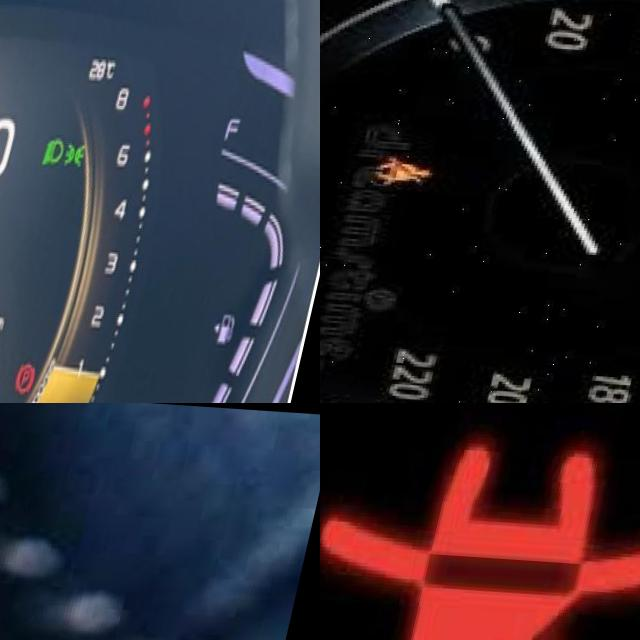Low beam: (46, 128, 76, 167)
Seat Belt: (320, 432, 640, 640), (386, 147, 445, 188)
